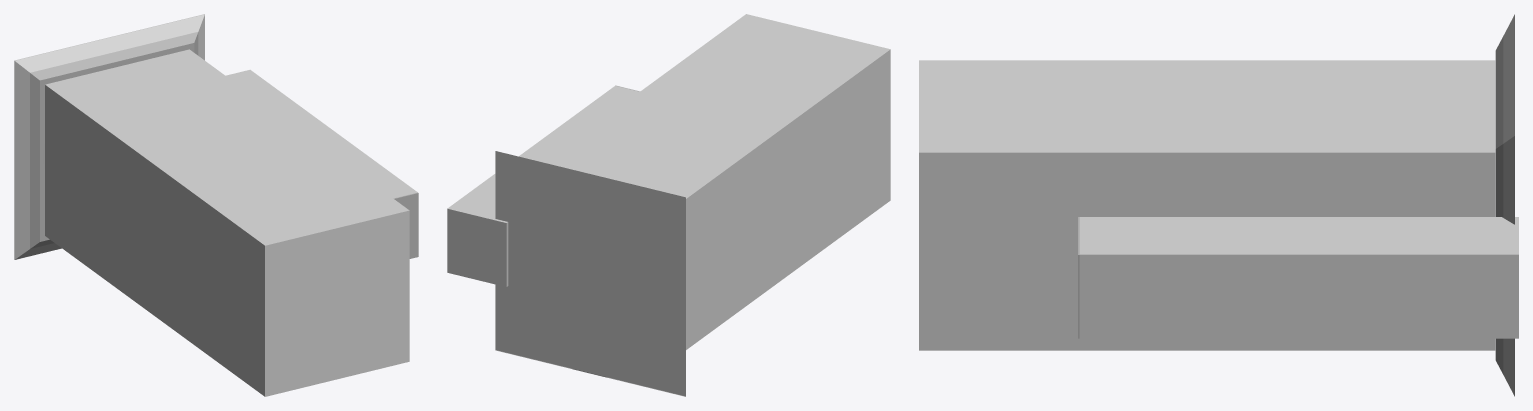
The model's file is launchpad.glb.
The picture shows the model from 3 angles, left to right: view 1: azimuth 30°, elevation 25°; view 2: azimuth 150°, elevation 25°; view 3: azimuth 270°, elevation 25°; orthographic projection. The views are drawn at different scales.
Visible parts, largest first — view 1: m_vehicle_bounds, Cube.001, Cube, Cube.002; view 2: m_vehicle_bounds, Cube.001, Cube.002, Cube; view 3: m_vehicle_bounds, Cube.002, Cube.001, Cube.
Boxes of the visible parts, box(x1,y1,x2,y2) form: m_vehicle_bounds: box(45, 49, 409, 396); Cube.001: box(14, 14, 204, 259); Cube: box(14, 14, 418, 259); Cube.002: box(226, 69, 417, 198); m_vehicle_bounds: box(543, 14, 890, 349); Cube.001: box(496, 151, 685, 396); Cube.002: box(447, 86, 639, 286); Cube: box(495, 85, 685, 396); m_vehicle_bounds: box(919, 60, 1495, 350); Cube.002: box(1079, 217, 1518, 338); Cube.001: box(1503, 15, 1514, 395); Cube: box(1078, 14, 1514, 396).
Bounding box in the file's own units: 60.68 × 48.74 × 101.
1 material, 1 textured.
